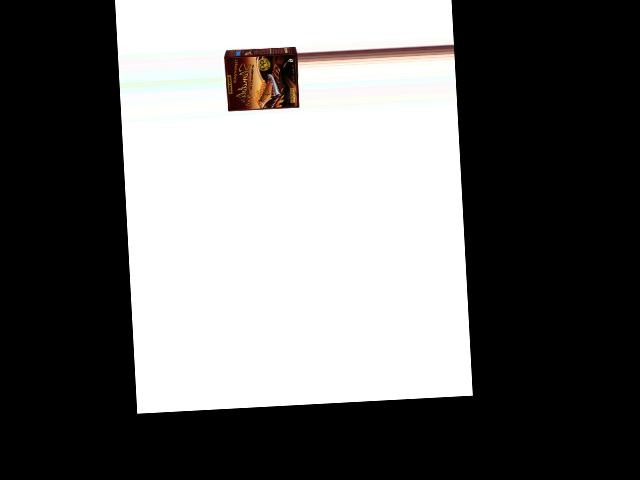chocolate: (222, 42, 300, 118)
